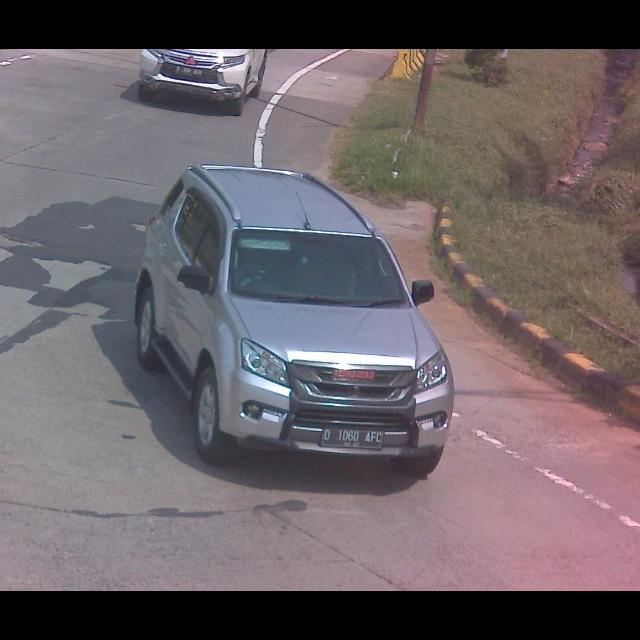plate: (321, 425, 383, 451)
